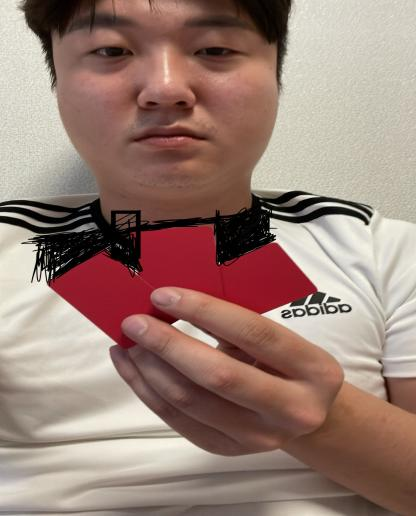ThreeHwatoo: (53, 222, 340, 369)
